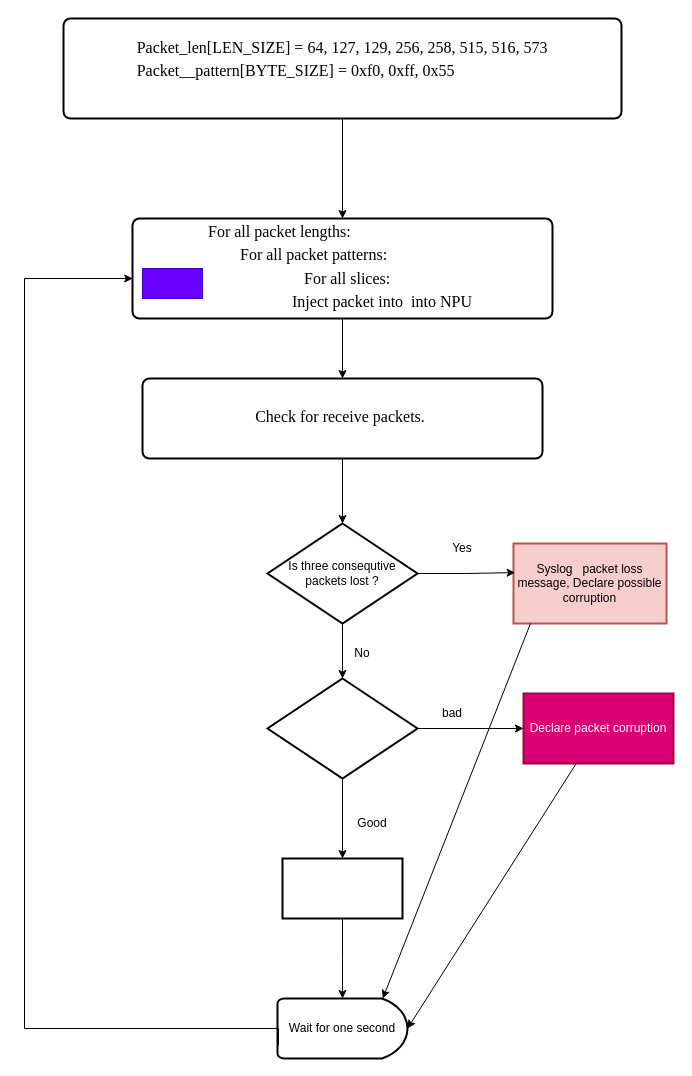
This 692x1076 diagram has some shape labels left out. The shapes that lost their labels are listed below. From the top down, each one's centre as x and y in pixels, then its label:
(172,283): STEP 2
(342,728): check packet integrity
(342,888): Declare pass
